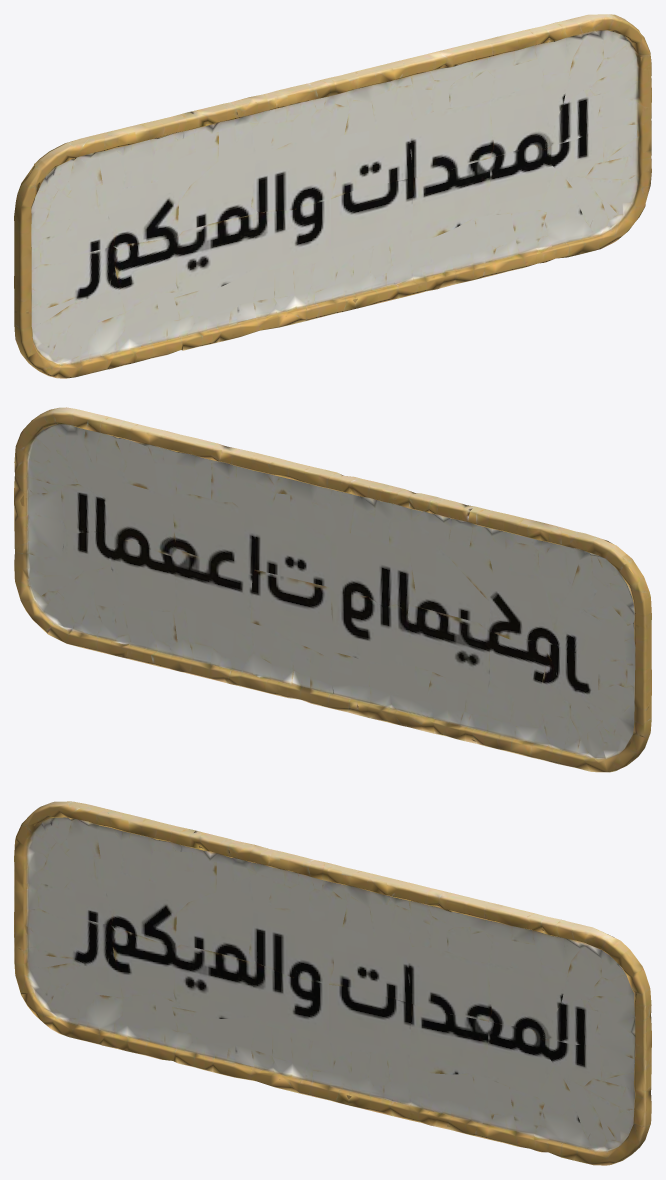
Rendered from icon_equipment.glb.
The picture shows the model from 3 angles, top to bottom: view 1: azimuth 30°, elevation 25°; view 2: azimuth 150°, elevation 25°; view 3: azimuth 330°, elevation 25°; orthographic projection.
Bounding box in the file's own units: 1.9 × 0.6662 × 0.0422.
1 material, 1 textured.
